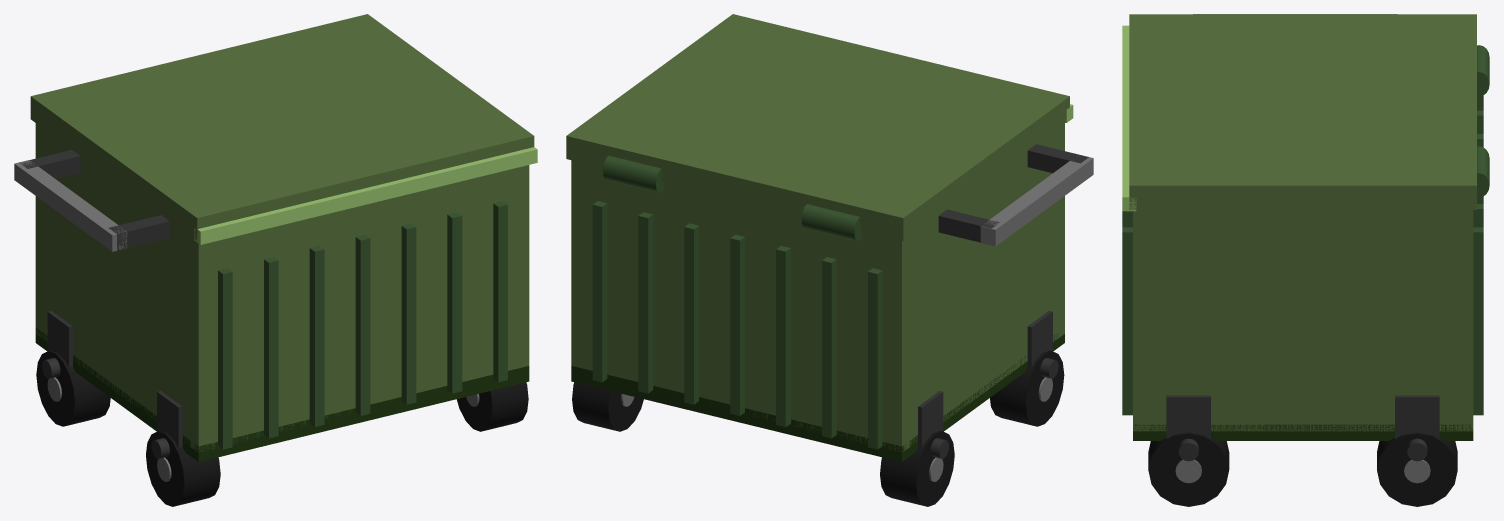
The model's file is CMU3DInheritedCratesTrashCartCloud.glb.
The picture shows the model from 3 angles, left to right: view 1: azimuth 30°, elevation 25°; view 2: azimuth 150°, elevation 25°; view 3: azimuth 270°, elevation 25°; orthographic projection. The views are drawn at different scales.
Visible parts, largest first — view 1: closed structural green lid, front structural wall, side structural wall -1, bottom structural pan, green lid front edge, ground-contact wheel -1 -0.215, side push-handle crossbar, ground-contact wheel -1 0.215, front molded vertical reinforcing rib 5, front molded vertical reinforcing rib 4, front molded vertical reinforcing rib 2, front molded vertical reinforcing rib 3 (+10 smaller); view 2: closed structural green lid, rear structural wall, side structural wall -1, bottom structural pan, side push-handle crossbar, ground-contact wheel -1 0.215, ground-contact wheel -1 -0.215, rear molded vertical reinforcing rib 5, rear molded vertical reinforcing rib 6, side structural wall 1, rear molded vertical reinforcing rib 2, rear molded vertical reinforcing rib 3 (+11 smaller); view 3: side structural wall 1, closed structural green lid, ground-contact wheel 1 -0.215, ground-contact wheel 1 0.215, bottom structural pan, front structural wall, rear structural wall, front molded vertical reinforcing rib 6, rear molded vertical reinforcing rib 6, axle suspension lug 1 -0.215, axle suspension lug 1 0.215, green lid front edge (+4 smaller).
Part boxes in pixels (bbox=[...]): closed structural green lid: bbox=[30, 14, 534, 240]; front structural wall: bbox=[190, 165, 529, 452]; side structural wall -1: bbox=[35, 123, 212, 450]; bottom structural pan: bbox=[35, 328, 529, 461]; green lid front edge: bbox=[194, 147, 537, 244]; ground-contact wheel -1 -0.215: bbox=[146, 430, 220, 506]; side push-handle crossbar: bbox=[14, 160, 127, 251]; ground-contact wheel -1 0.215: bbox=[36, 350, 110, 426]; front molded vertical reinforcing rib 5: bbox=[447, 212, 462, 393]; front molded vertical reinforcing rib 4: bbox=[401, 223, 416, 404]; front molded vertical reinforcing rib 2: bbox=[309, 245, 324, 426]; front molded vertical reinforcing rib 3: bbox=[355, 234, 370, 415]; closed structural green lid: bbox=[566, 14, 1069, 241]; rear structural wall: bbox=[571, 160, 909, 451]; side structural wall -1: bbox=[888, 129, 1057, 446]; bottom structural pan: bbox=[571, 334, 1064, 461]; side push-handle crossbar: bbox=[980, 155, 1093, 246]; ground-contact wheel -1 0.215: bbox=[880, 430, 954, 506]; ground-contact wheel -1 -0.215: bbox=[990, 350, 1064, 426]; rear molded vertical reinforcing rib 5: bbox=[638, 212, 653, 393]; rear molded vertical reinforcing rib 6: bbox=[592, 201, 607, 382]; side structural wall 1: bbox=[571, 160, 585, 368]; rear molded vertical reinforcing rib 2: bbox=[776, 245, 790, 427]; rear molded vertical reinforcing rib 3: bbox=[730, 234, 744, 415]; side structural wall 1: bbox=[1133, 210, 1473, 431]; closed structural green lid: bbox=[1129, 14, 1476, 209]; ground-contact wheel 1 -0.215: bbox=[1148, 432, 1229, 506]; ground-contact wheel 1 0.215: bbox=[1377, 432, 1457, 506]; bottom structural pan: bbox=[1133, 424, 1473, 440]; front structural wall: bbox=[1133, 210, 1149, 431]; rear structural wall: bbox=[1457, 210, 1473, 431]; front molded vertical reinforcing rib 6: bbox=[1122, 227, 1132, 415]; rear molded vertical reinforcing rib 6: bbox=[1473, 227, 1483, 415]; axle suspension lug 1 -0.215: bbox=[1166, 395, 1210, 438]; axle suspension lug 1 0.215: bbox=[1395, 395, 1439, 438]; green lid front edge: bbox=[1122, 25, 1136, 211].
Size of the model in its own units: 0.915 by 0.663 by 0.691.
